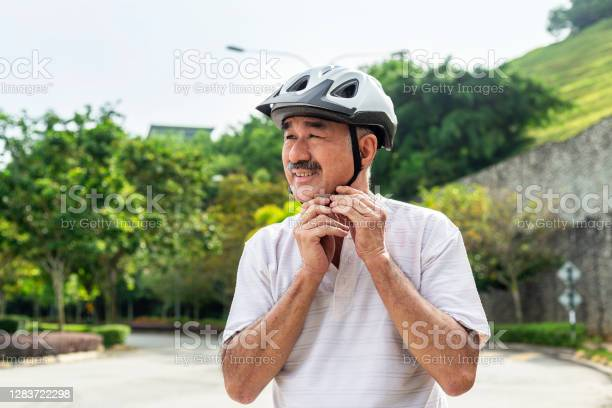helmet: (255, 65, 398, 205)
